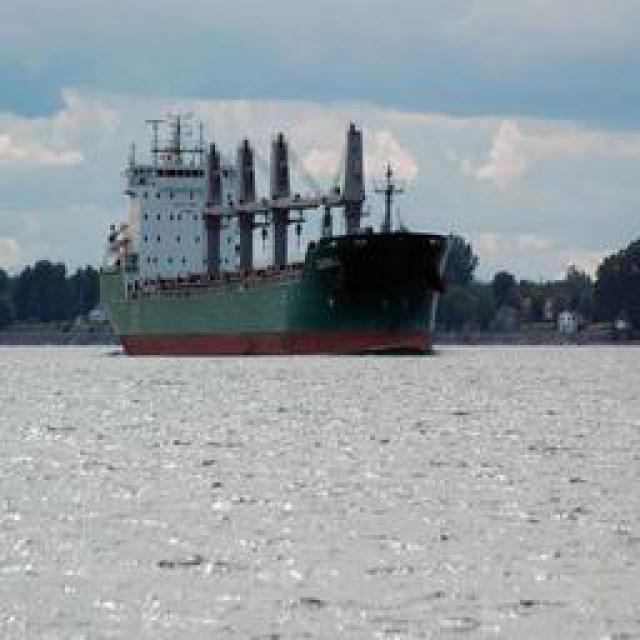Ship: (98, 119, 454, 361)
